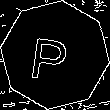P_N: (33, 27, 77, 83)
